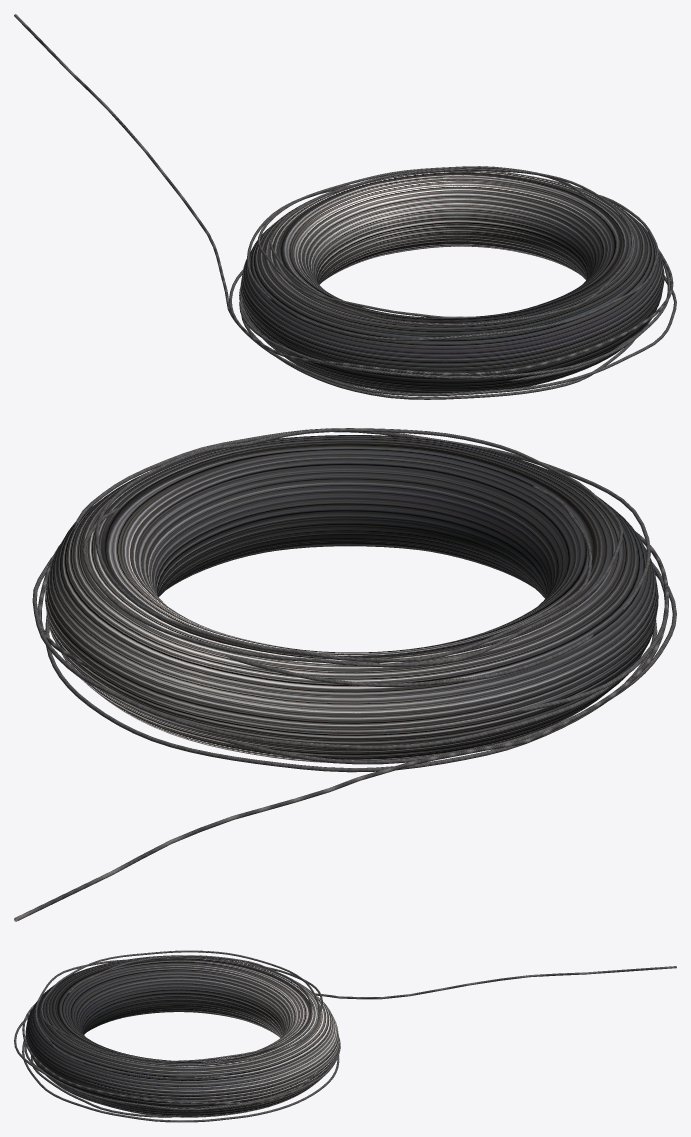
The model's file is Wire_01_221109.FBX.
3 views of the same model, one above another, from view 1: azimuth 30°, elevation 25°; view 2: azimuth 150°, elevation 25°; view 3: azimuth 270°, elevation 25° (orthographic). The views are drawn at different scales.
Parts seen in each view (by area): view 1: Torus002, Helix003, Helix001, Line002, Helix004, Helix002; view 2: Torus002, Helix003, Helix001, Line002, Helix004, Helix002; view 3: Torus002, Helix003, Line002, Helix001, Helix004, Helix002.
Part boxes in pixels (x1,y1,x2,y2): Torus002: [240, 170, 664, 393]; Helix003: [258, 166, 633, 326]; Helix001: [229, 269, 676, 399]; Line002: [14, 14, 673, 375]; Helix004: [239, 260, 670, 381]; Helix002: [247, 185, 658, 340]; Torus002: [45, 435, 658, 762]; Helix003: [82, 428, 623, 667]; Helix001: [45, 573, 676, 772]; Line002: [14, 531, 668, 921]; Helix004: [32, 556, 668, 749]; Helix002: [73, 428, 650, 686]; Torus002: [25, 955, 339, 1117]; Helix003: [41, 950, 320, 1063]; Line002: [22, 966, 676, 1104]; Helix001: [22, 1035, 339, 1122]; Helix004: [14, 1015, 340, 1110]; Helix002: [35, 959, 322, 1079].
Size of the model in its own units: 1.46 by 0.308 by 2.94.
2 materials, 2 textured.
